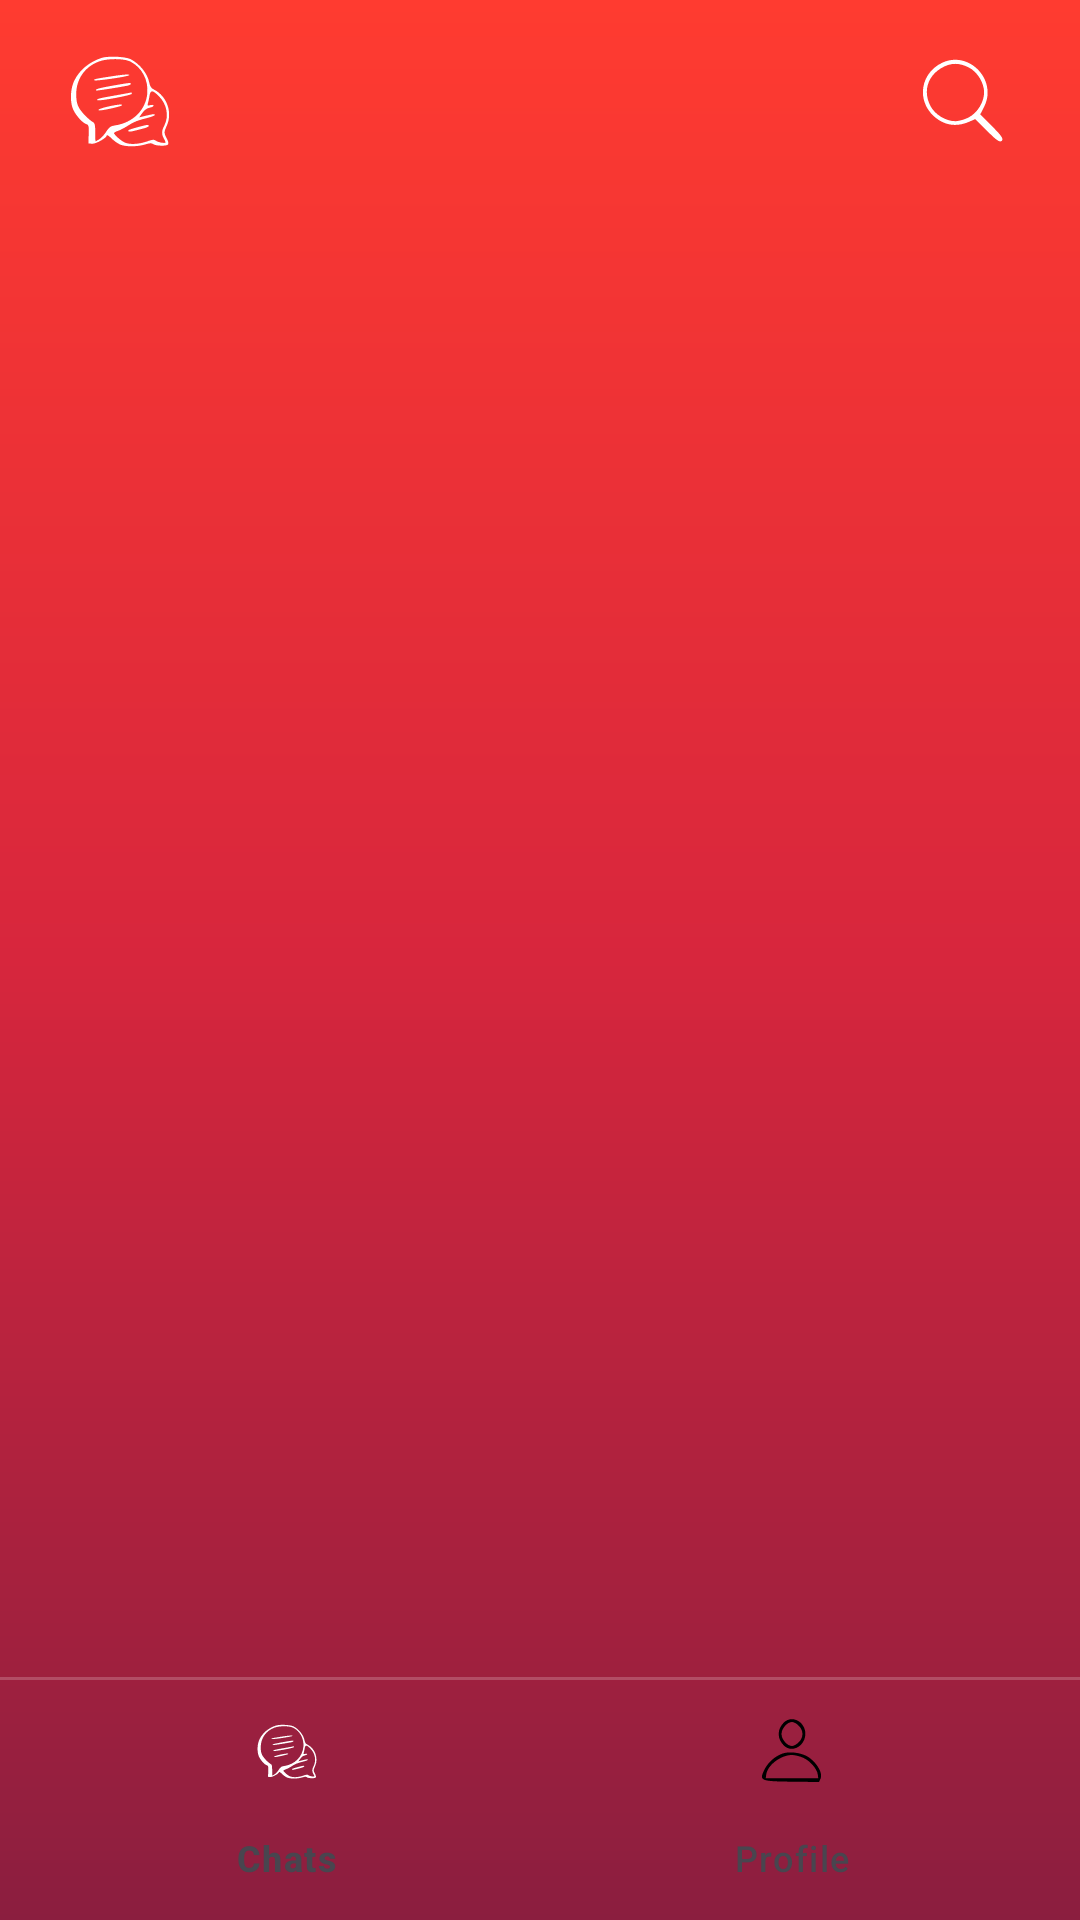

Point at icon controls on the screen. Image size 1080w x 1920h, points as (x,y).
Tìm kiếm: (963,100)
